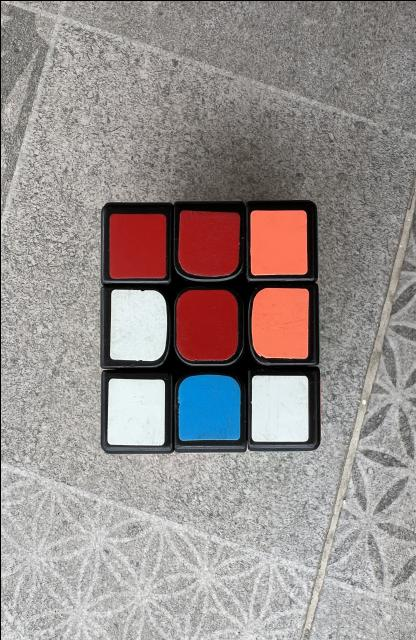Blue: (178, 374, 239, 440)
Orange: (250, 288, 308, 358), (249, 209, 307, 275)
Red: (176, 289, 237, 360), (178, 209, 239, 275), (108, 212, 166, 278)
White: (109, 289, 166, 360), (106, 378, 165, 445), (250, 375, 308, 441)
